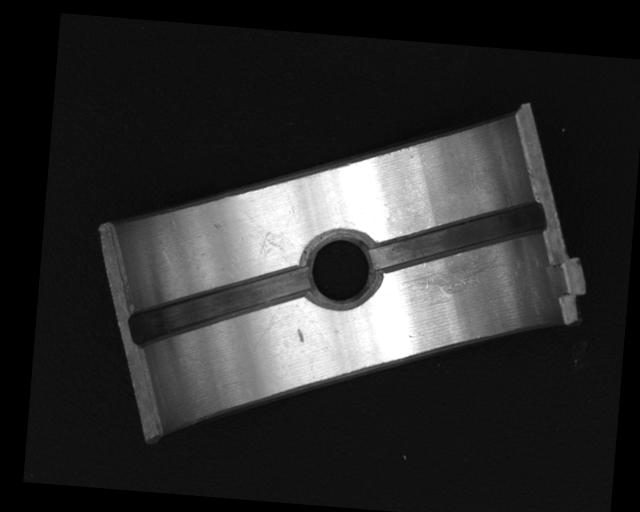bruise: (295, 327, 306, 345)
gap: (129, 253, 310, 359), (371, 188, 547, 281)
hole: (299, 227, 382, 312)
scratch: (401, 244, 506, 301)
